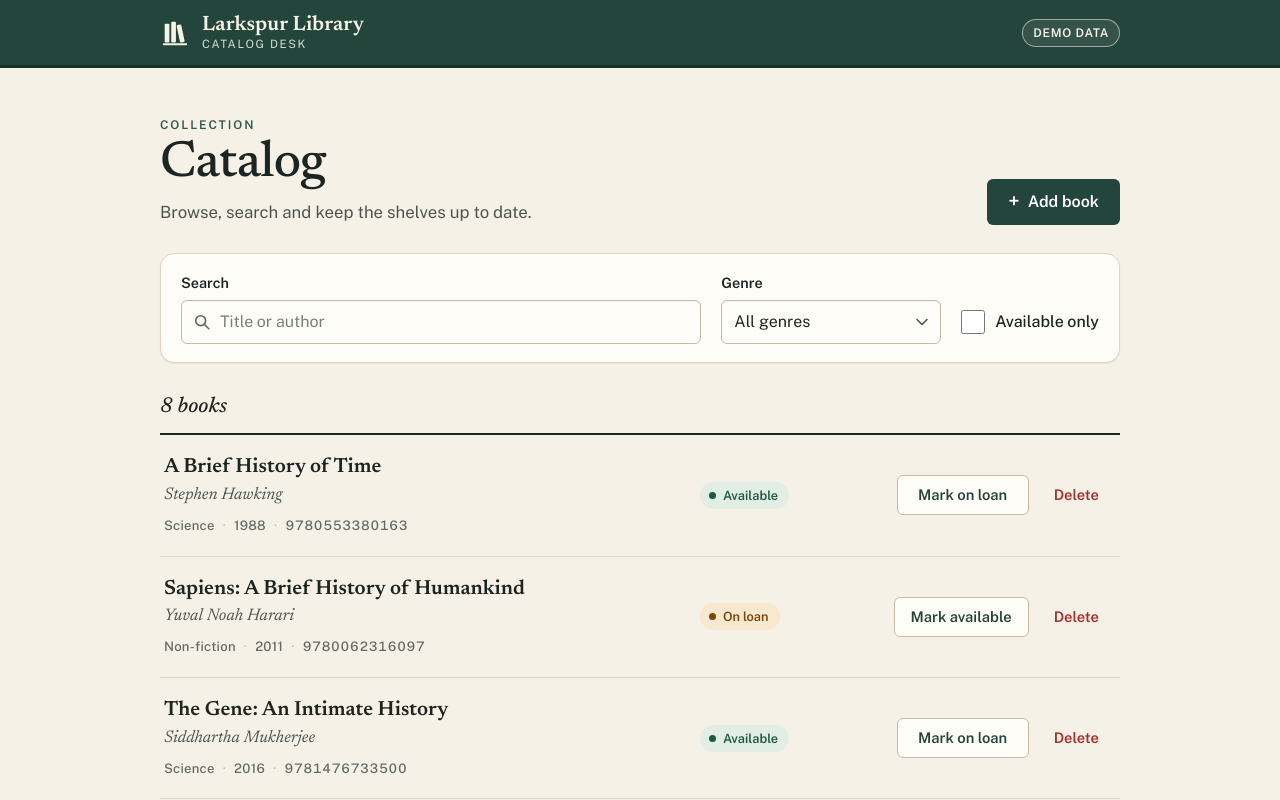
Test: CatalogPage › FE-AC9: keeps the book when delete fails
Click the button with test id "delete-book" in the row of "Yuval Noah Harari": (1076,617) [1037, 597, 1116, 637]
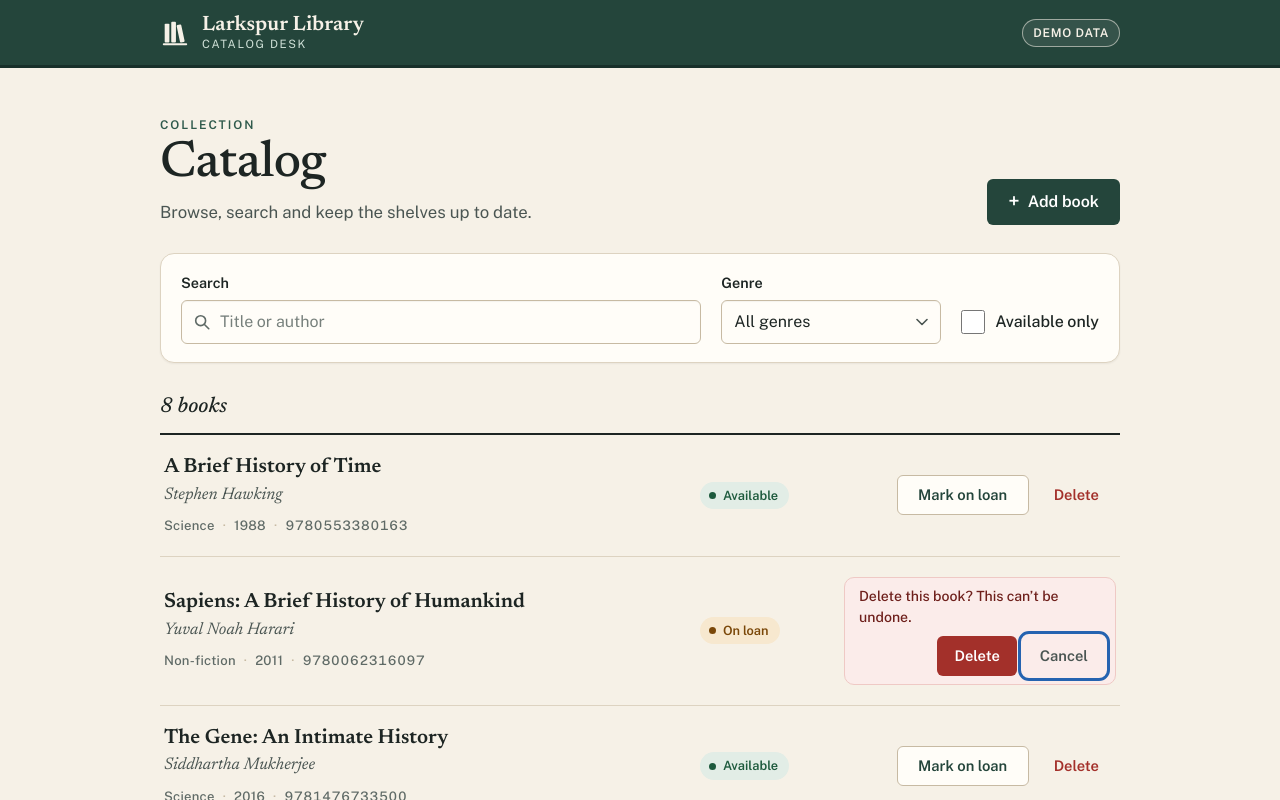
Click the button with test id "confirm-delete": (977,656) [938, 636, 1017, 676]
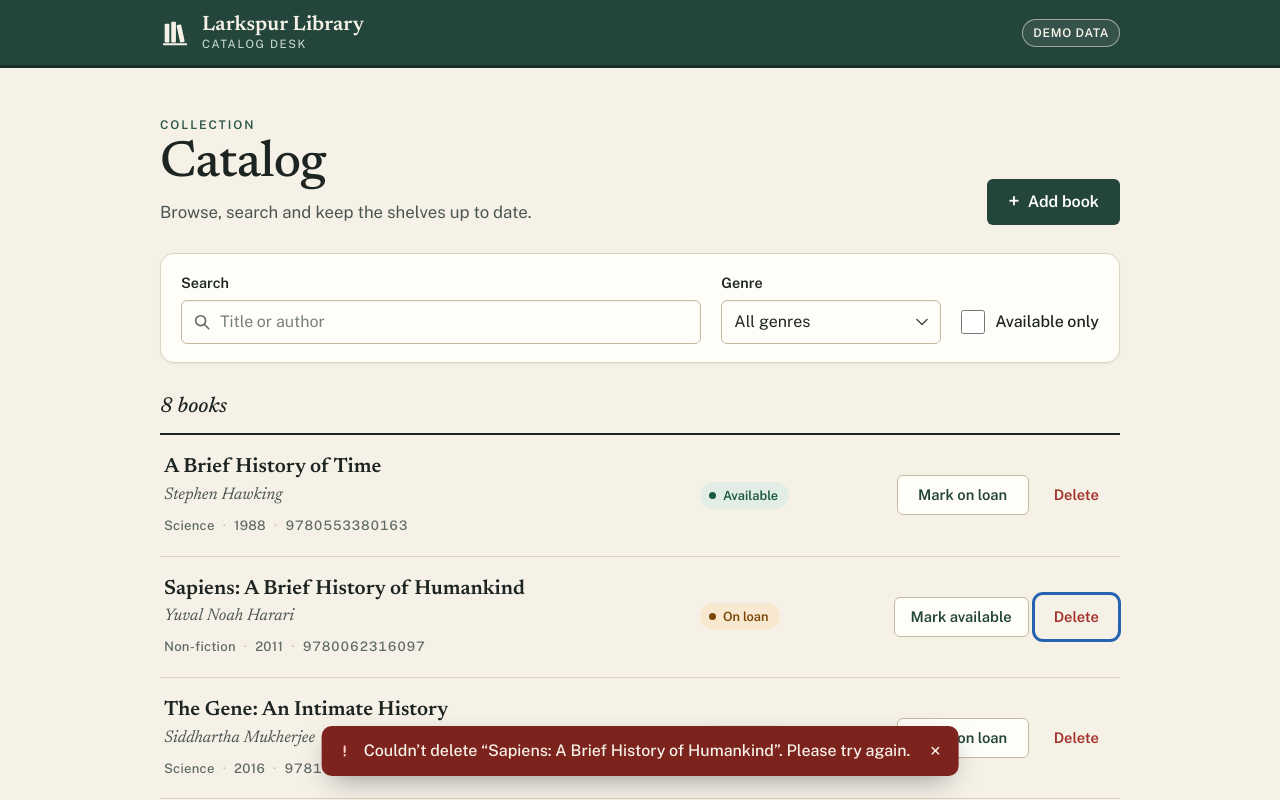
Expected: the element with test id "toast" shows "Couldn’t delete", [364, 741, 910, 760]
